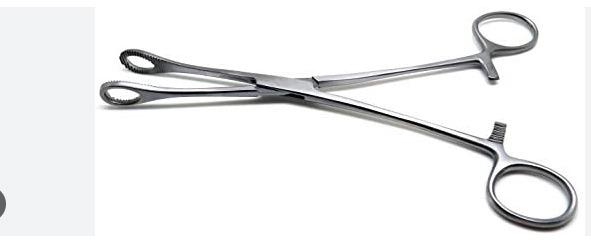Sponge Holding Forceps: (99, 8, 579, 236)
